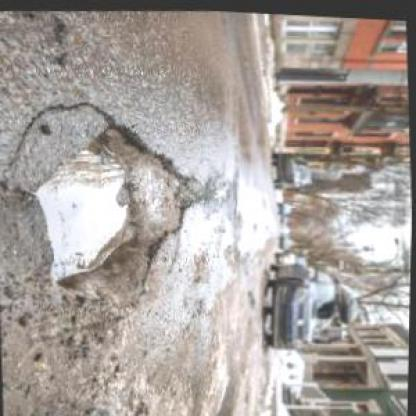pothole: (29, 112, 197, 301)
